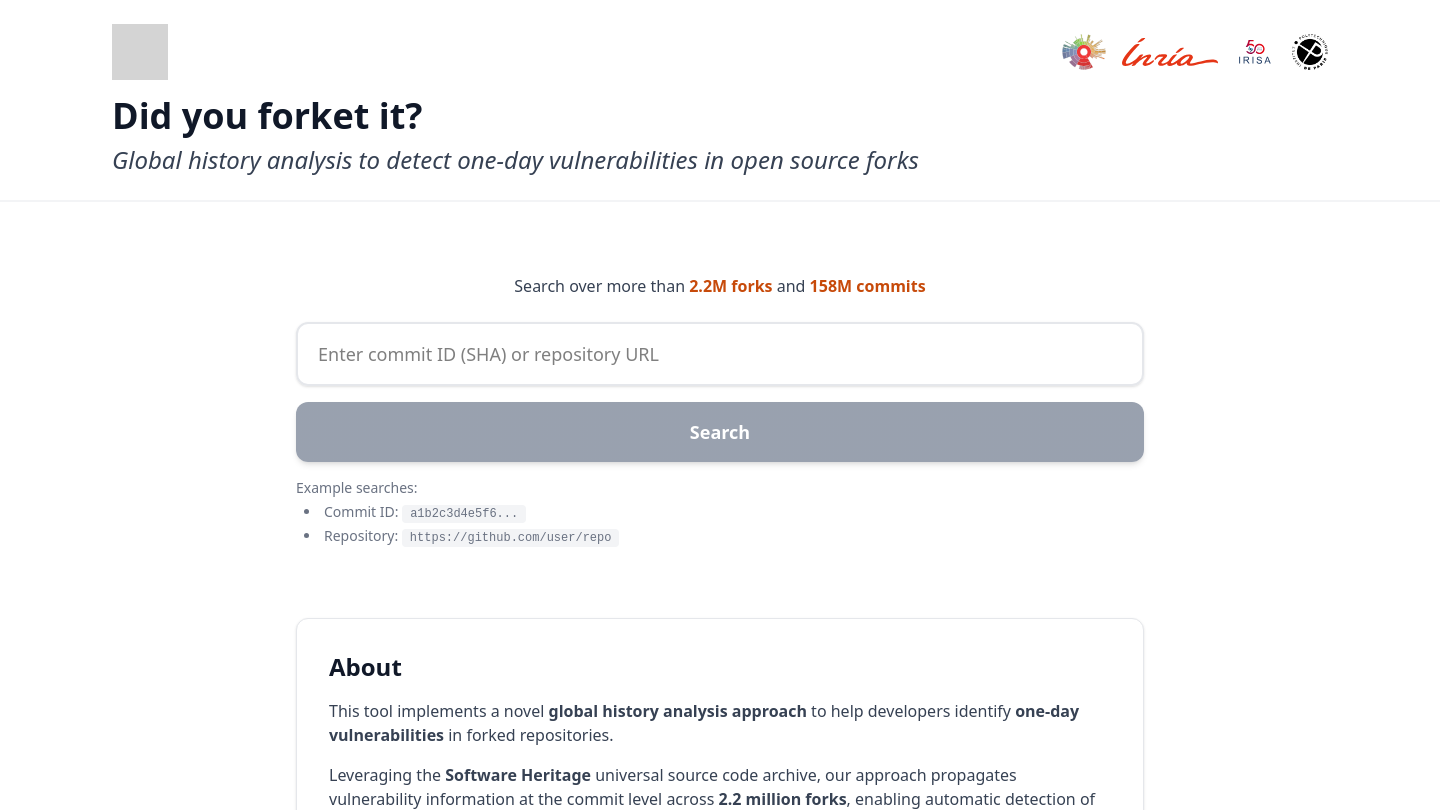
it: App - Consecutive Search Tests › should handle switching between commit and origin searches
The width and height of the screenshot is (1440, 810).
First search: commit ID
Type "aaaaaaaaaaaaaaaaaaaaaaaaaaaaaaaaaaaaaaaa" into the field named "search by commit id or repository url".
click(720, 354); type("aaaaaaaaaaaaaaaaaaaaaaaaaaaaaaaaaaaaaaaa")  # box [296, 322, 1144, 386]
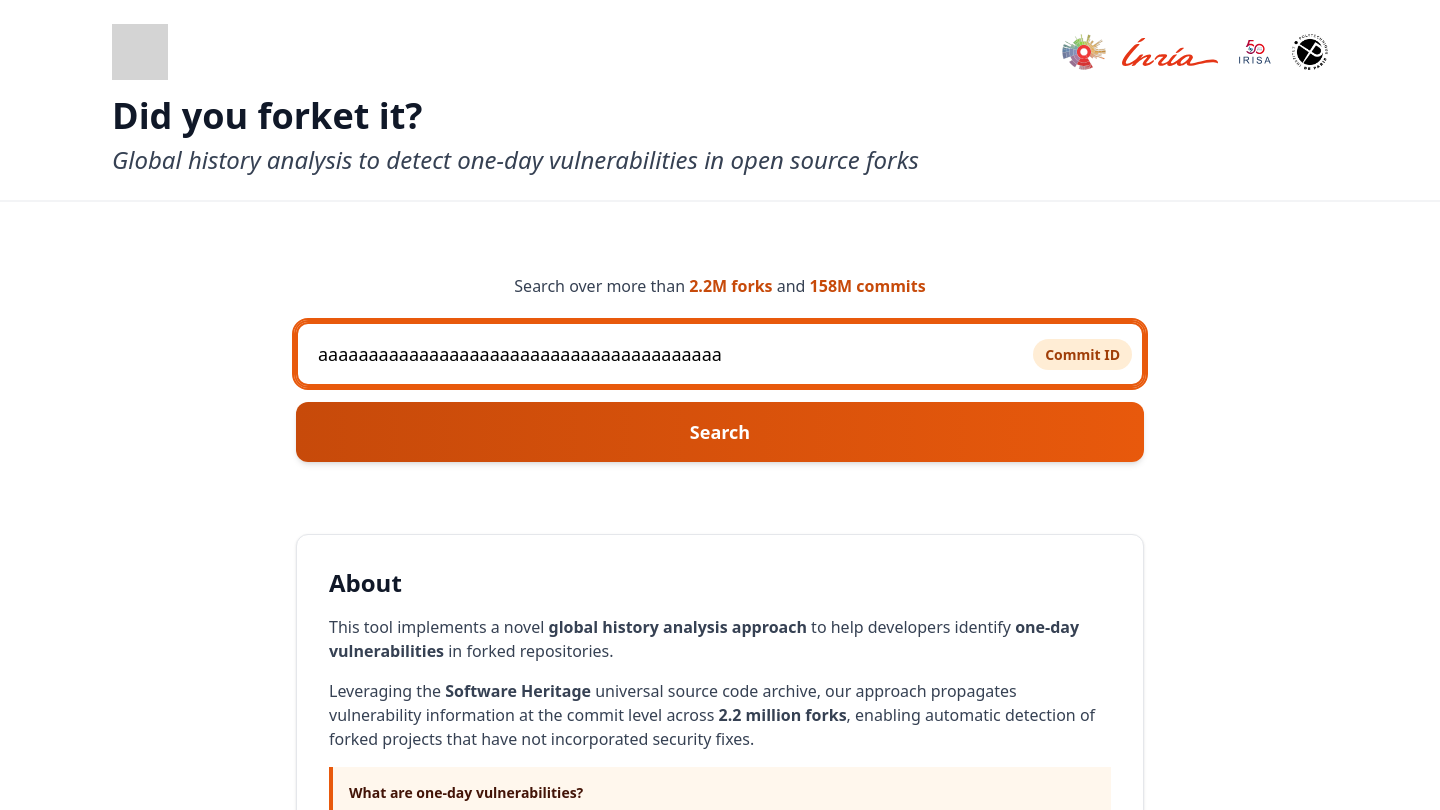
Click the button with aria-label "execute vulnerability search".
click(720, 432)  # box [296, 402, 1144, 462]
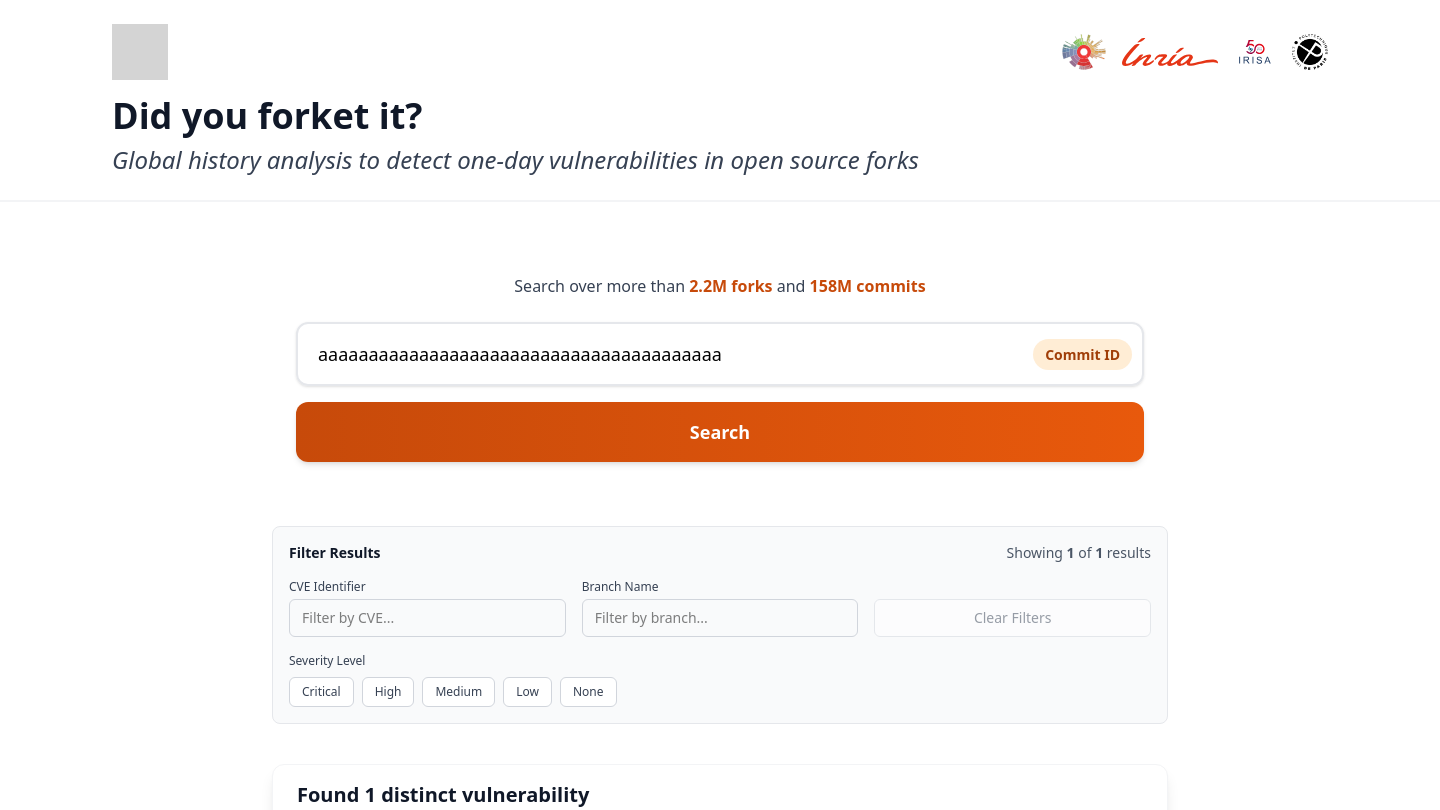
Second search: origin URL
Replace the text in the field named "search by commit id or repository url" with "https://github.com/test/repo" at {"x": 720, "y": 354}, box [296, 322, 1144, 386]
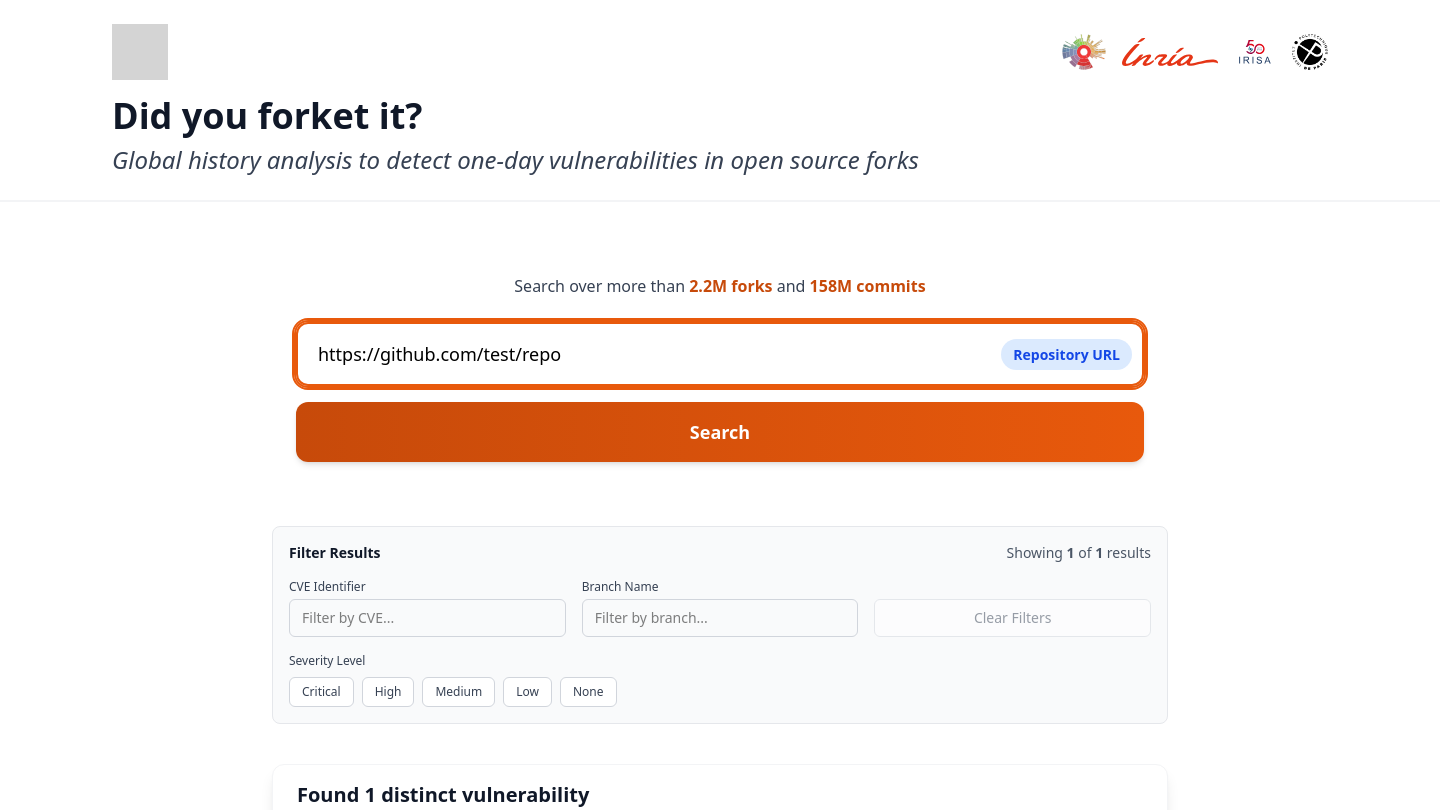
Click the button with aria-label "execute vulnerability search".
click(720, 432)  # box [296, 402, 1144, 462]
(page scrolled)
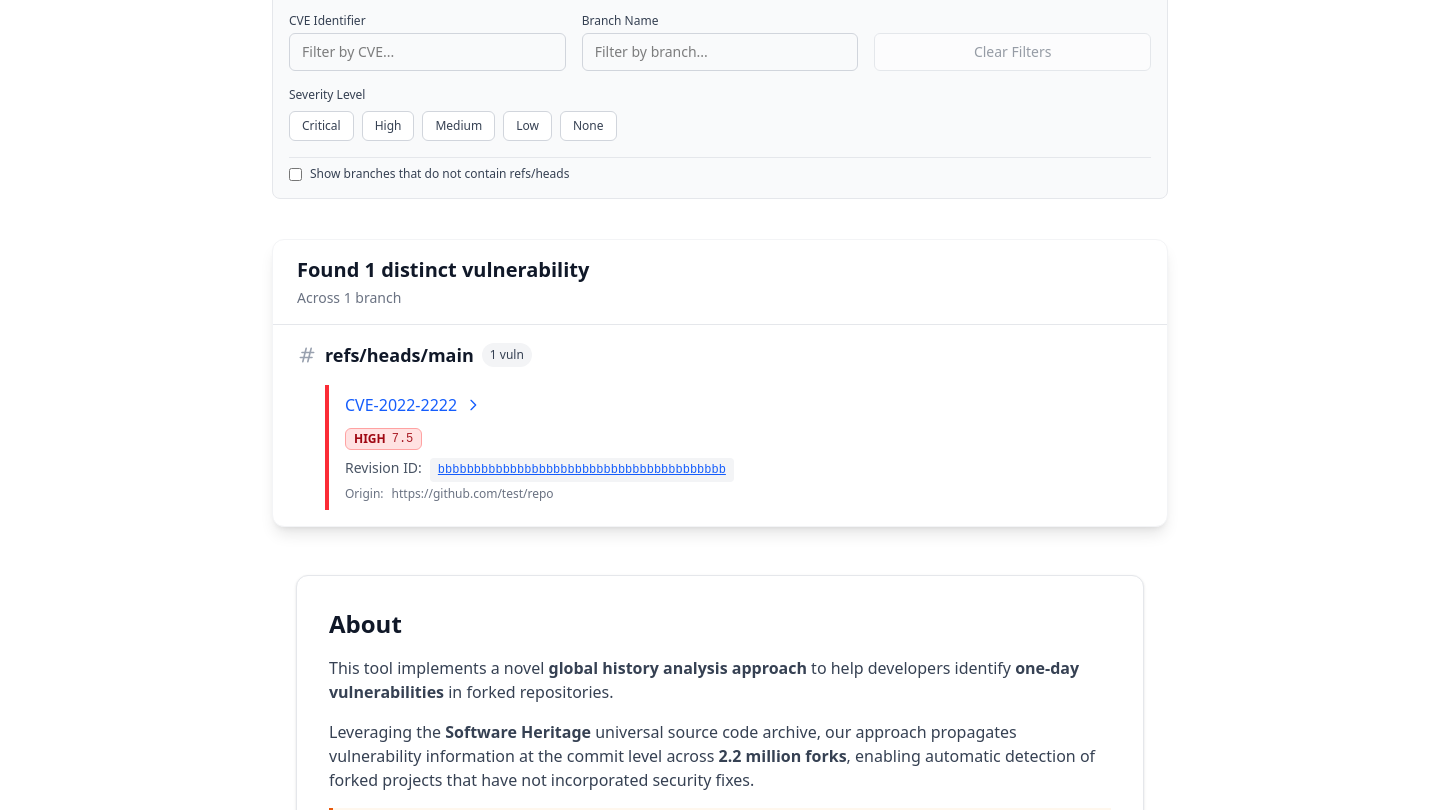
Expected: the text "CVE-2022-2222" is shown, [345, 393, 457, 417]
